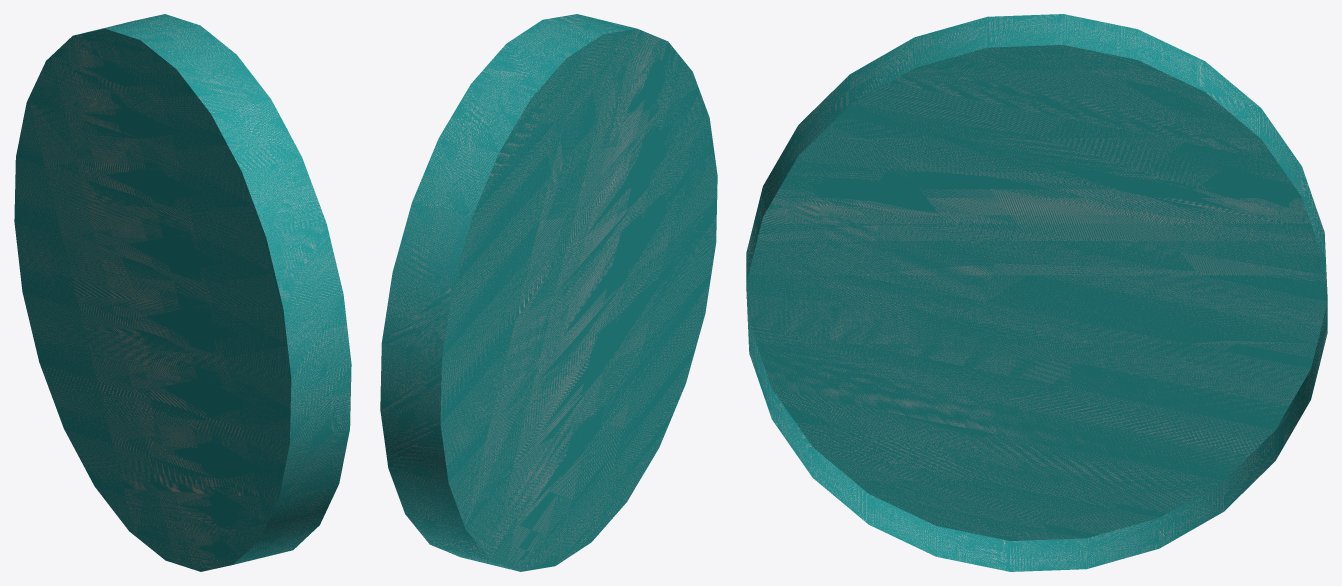
The model's file is original-27.obj.
3 views of the same model, side by side, from view 1: azimuth 30°, elevation 25°; view 2: azimuth 150°, elevation 25°; view 3: azimuth 270°, elevation 25° (orthographic). The views are drawn at different scales.
Parts seen in each view (by area): view 1: #ID223; view 2: #ID223; view 3: #ID223.
Boxes of the visible parts, <box> form: #ID223: <box>14,14,351,571</box>; #ID223: <box>380,14,717,571</box>; #ID223: <box>746,14,1327,571</box>.
Bounding box in the file's own units: 0.0113 × 0.0897 × 0.0897.
